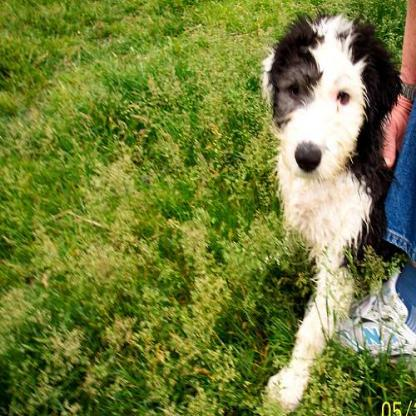Old_English_sheepdog: (247, 18, 414, 413)
